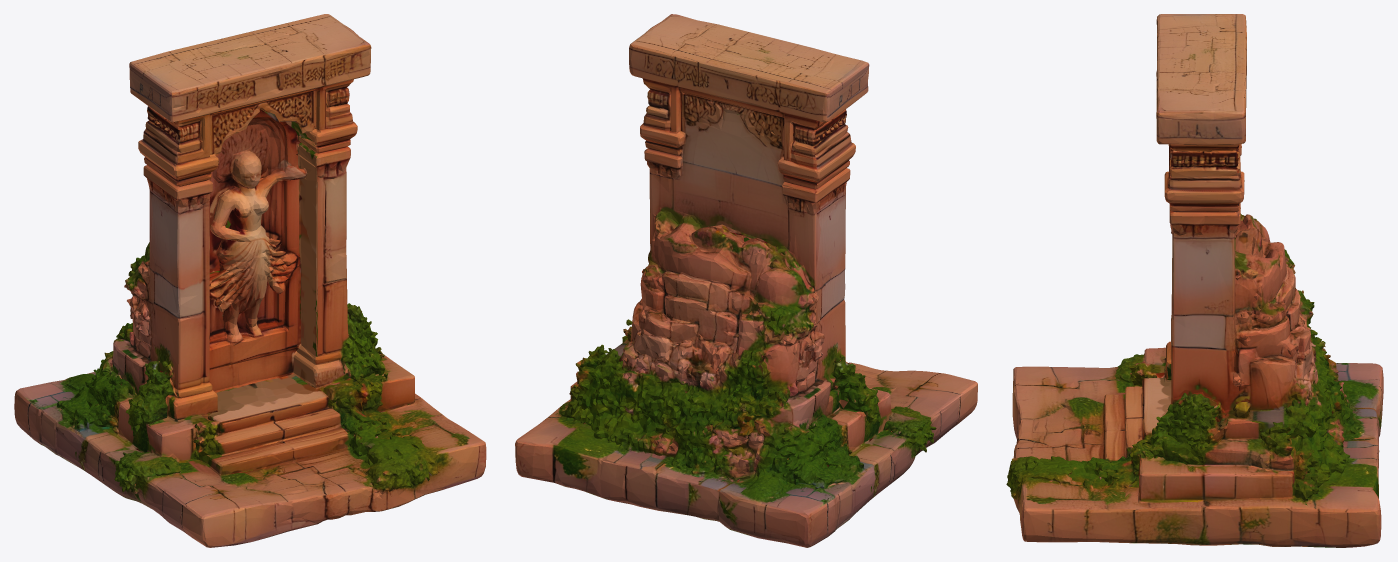
File: dancer-relief-wall-panel-optimized.glb
3 renders of one model, left to right at view 1: azimuth 30°, elevation 25°; view 2: azimuth 150°, elevation 25°; view 3: azimuth 270°, elevation 25°, orthographic. The views are drawn at different scales.
Parts seen in each view (by area): view 1: cfb5cc0c-38cc-4166-a44e-23407f1223a4_texturing; view 2: cfb5cc0c-38cc-4166-a44e-23407f1223a4_texturing; view 3: cfb5cc0c-38cc-4166-a44e-23407f1223a4_texturing.
Part boxes in pixels (<box>): cfb5cc0c-38cc-4166-a44e-23407f1223a4_texturing: <box>14,14,486,547</box>; cfb5cc0c-38cc-4166-a44e-23407f1223a4_texturing: <box>515,14,977,547</box>; cfb5cc0c-38cc-4166-a44e-23407f1223a4_texturing: <box>1006,14,1383,547</box>.
Bounding box in the file's own units: 2.38 × 3 × 2.47.
1 material, 1 textured.
